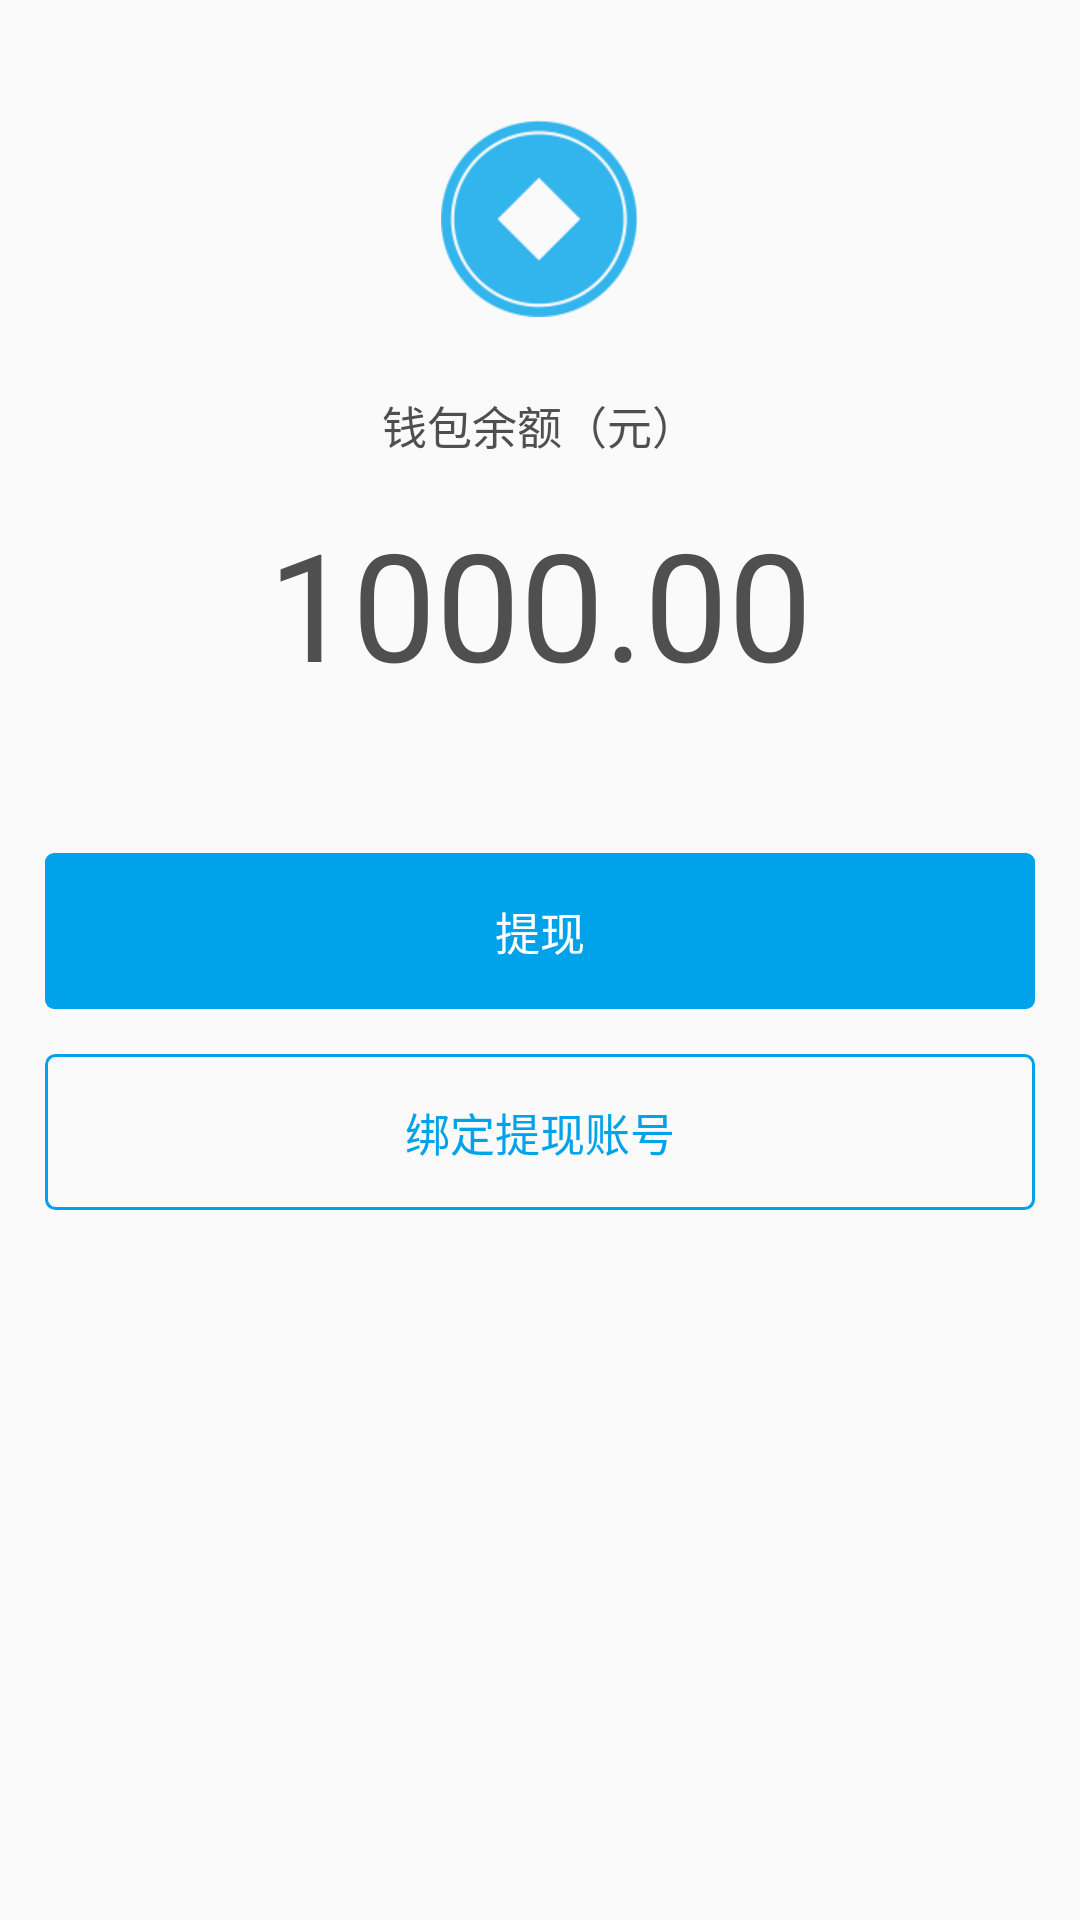

Named icons in this screenshot (1080px×1920px) and their centers, [x,y]:
wallet coin: [539,218]
